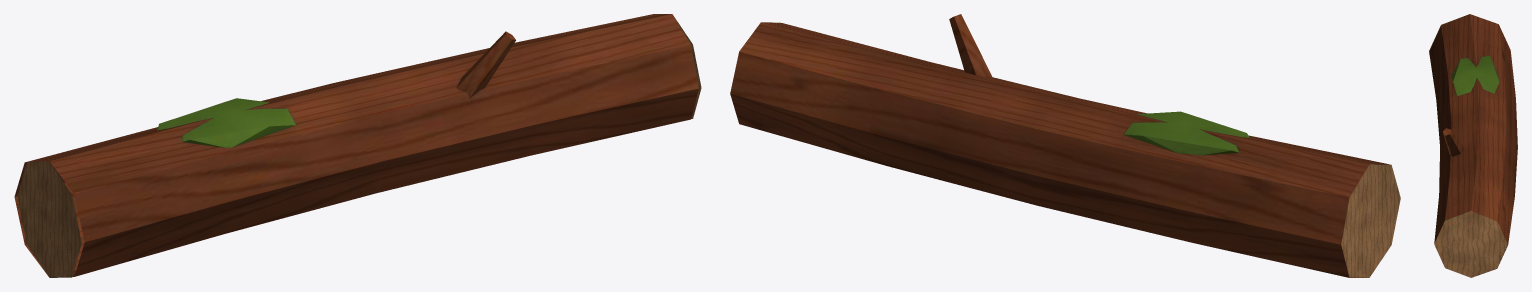
The model's file is bg_forest_log_1_lod0.glb.
The picture shows the model from 3 angles, left to right: view 1: azimuth 30°, elevation 25°; view 2: azimuth 150°, elevation 25°; view 3: azimuth 270°, elevation 25°; orthographic projection. The views are drawn at different scales.
Visible parts, largest first — view 1: body; view 2: body; view 3: body.
Part boxes in pixels (x1,y1,x2,y2): body: (14,14,701,277); body: (730,14,1400,277); body: (1429,14,1517,277).
Bounding box in the file's own units: 2.02 × 0.4614 × 0.3884.
Materials: 1 (1 with a texture image).
